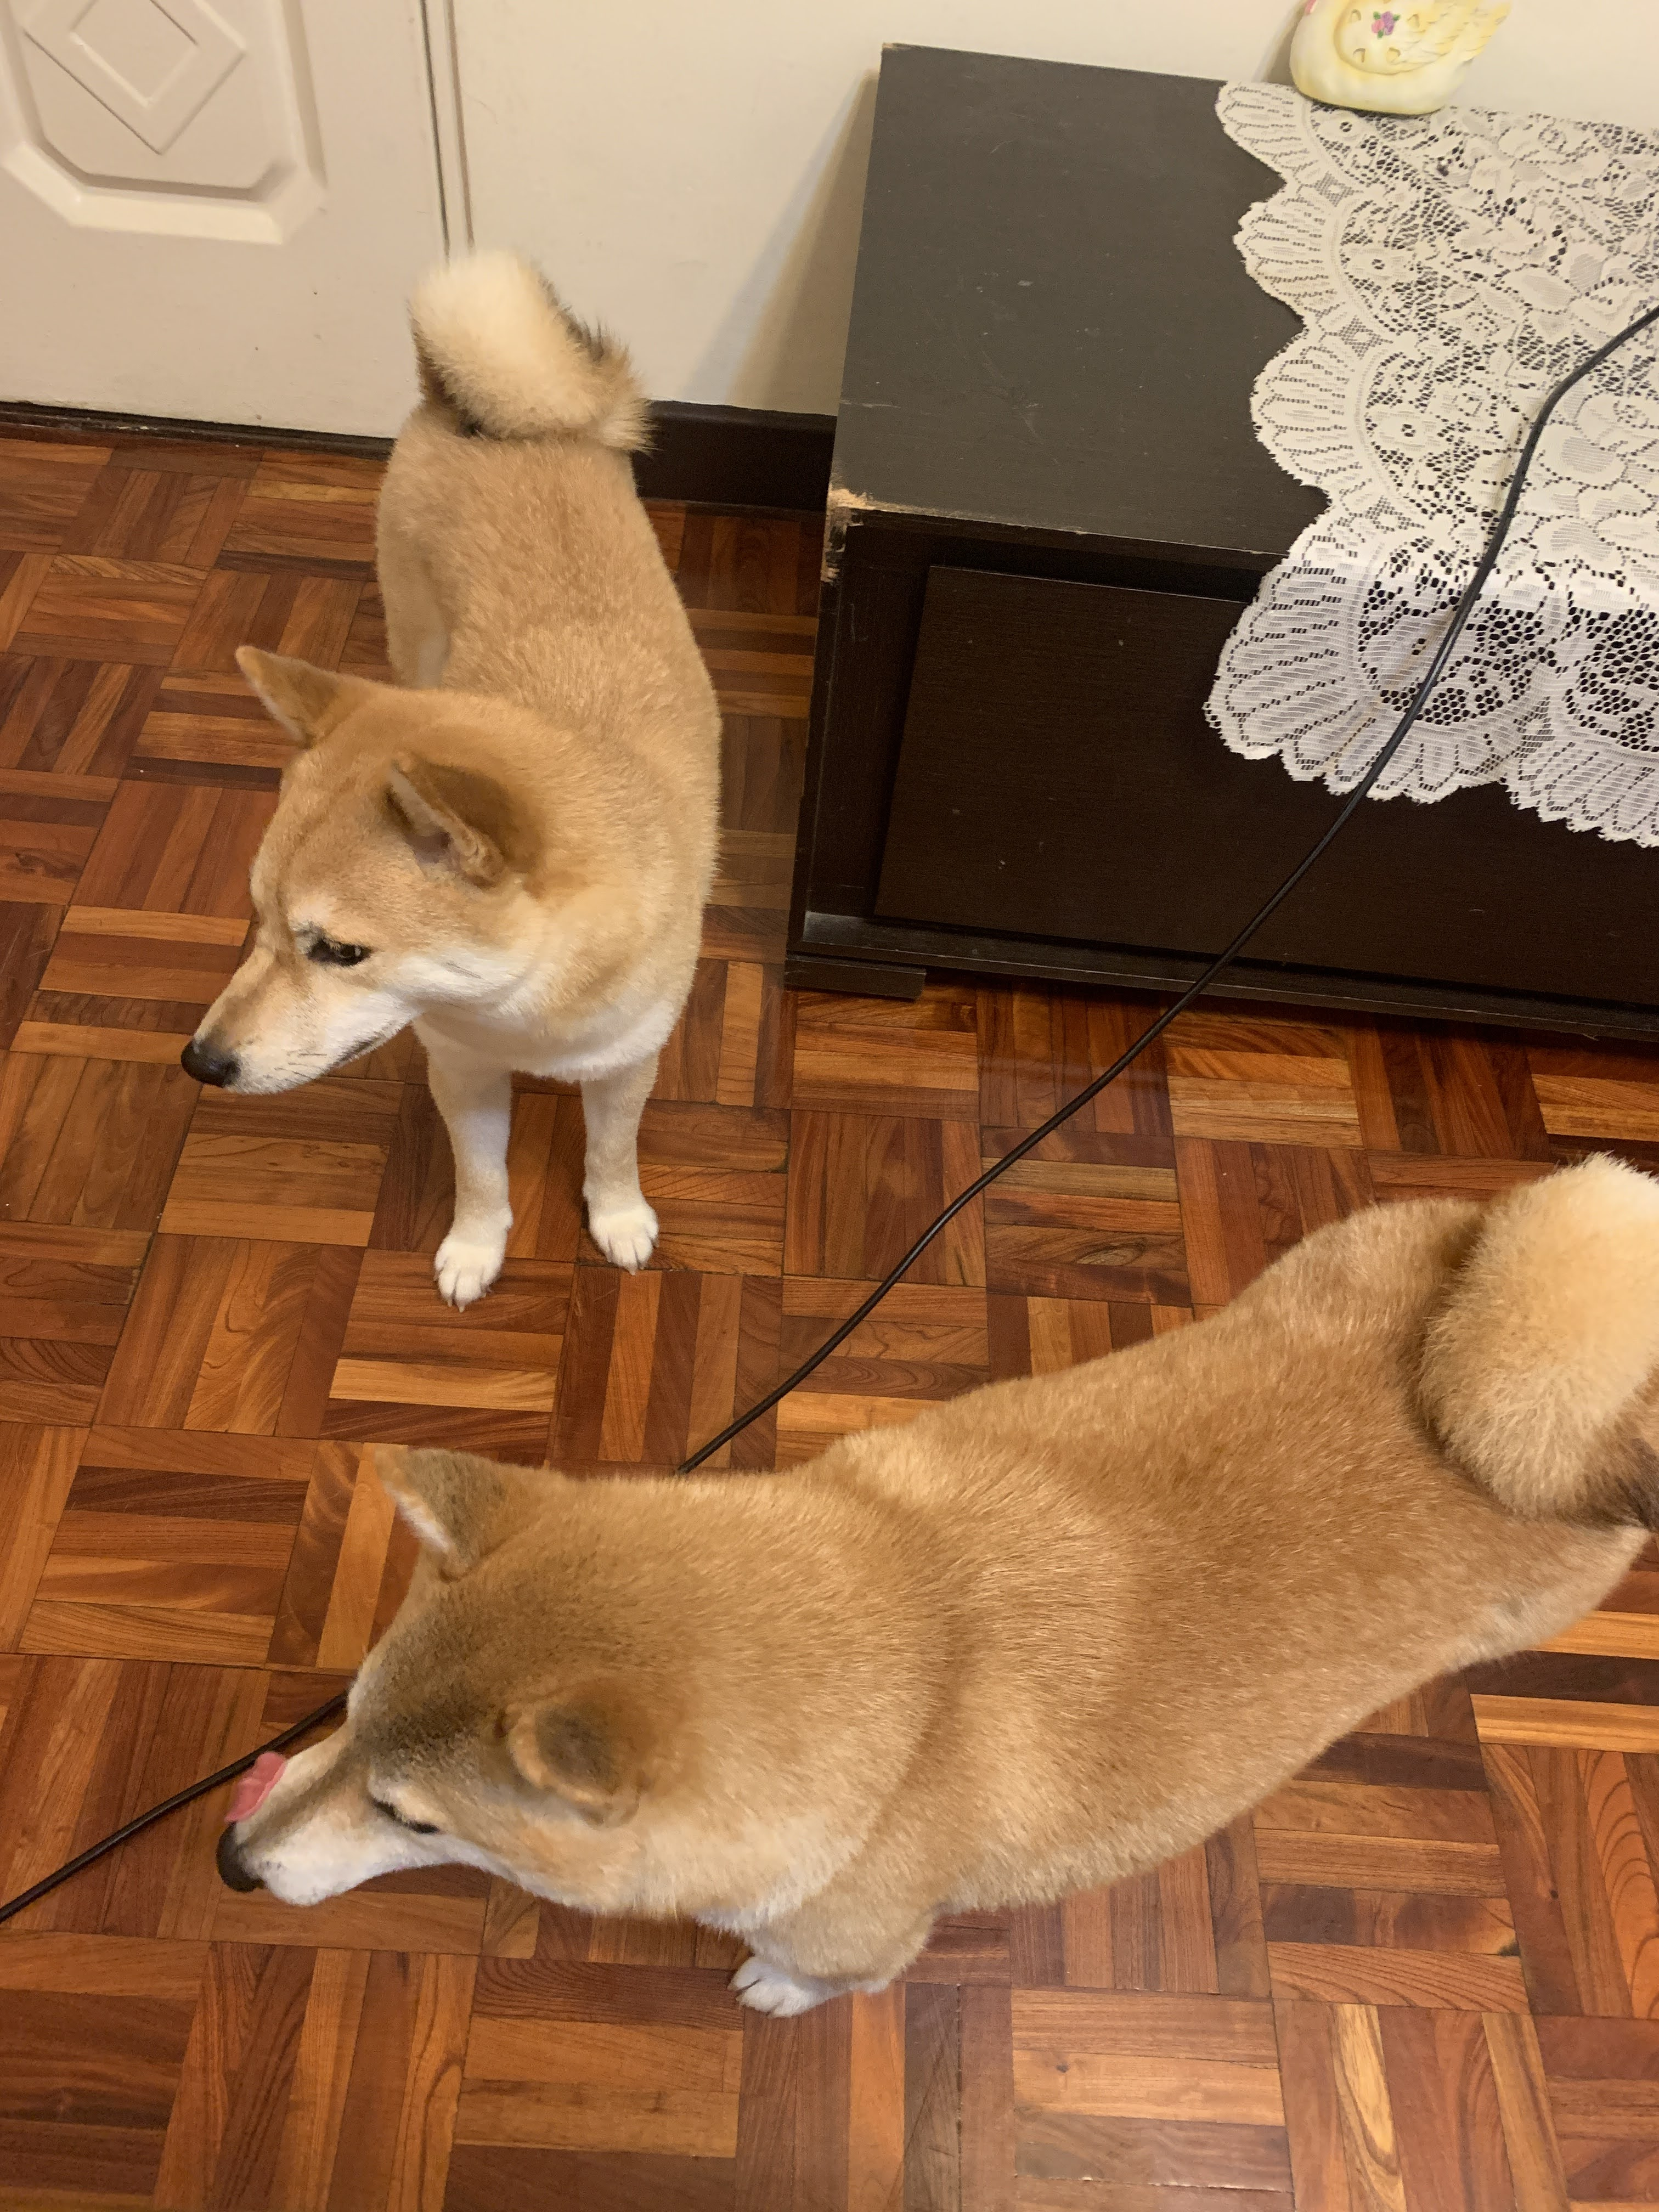Stand up: (183, 1223, 1659, 2017), (179, 233, 728, 1325)
